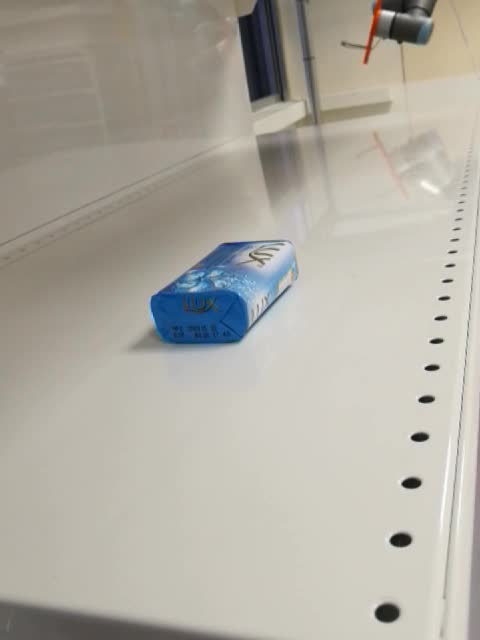soap: (146, 237, 301, 347)
